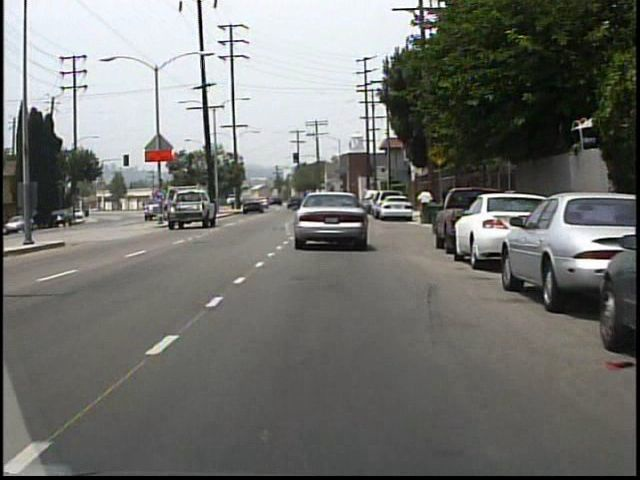person: (416, 183, 435, 204)
